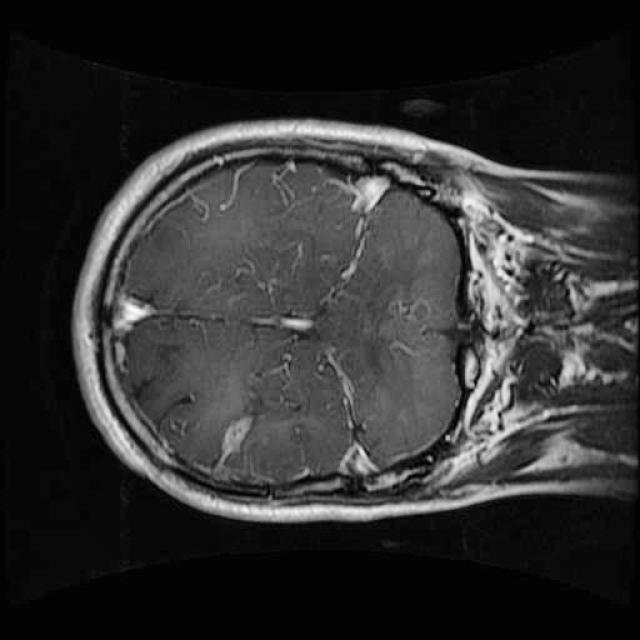Tumor: (217, 397, 266, 468)
